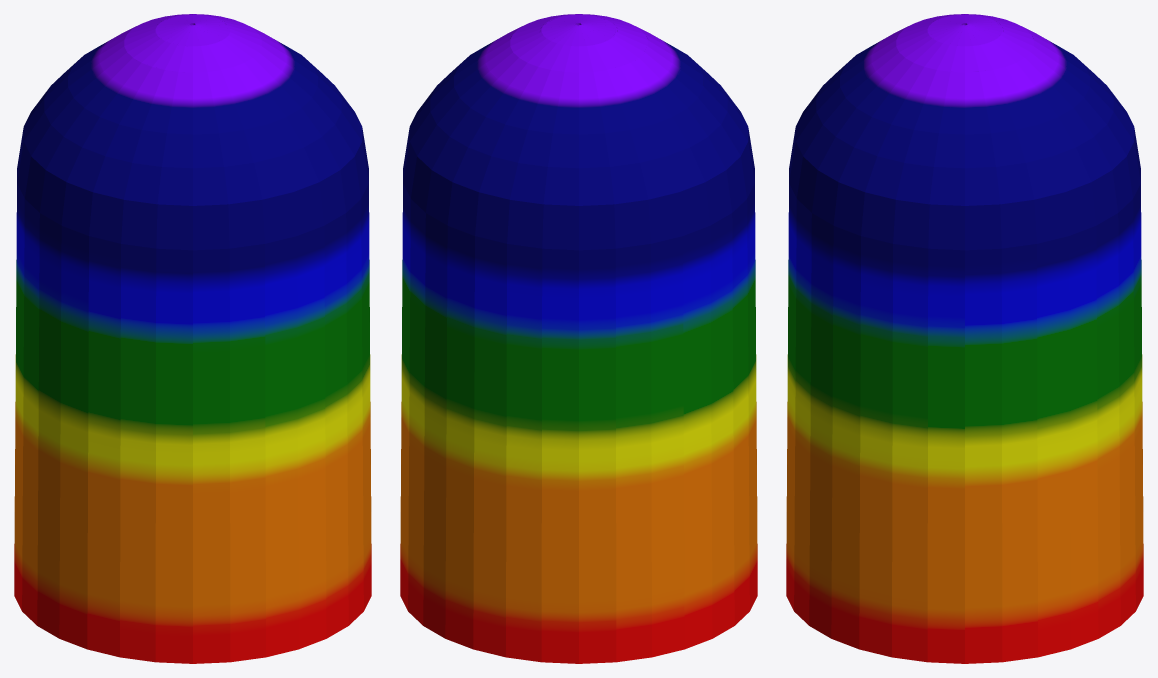
3 renders of one model, left to right at view 1: azimuth 30°, elevation 25°; view 2: azimuth 150°, elevation 25°; view 3: azimuth 270°, elevation 25°, orthographic.
Parts seen in each view (by area): view 1: algeomath; view 2: algeomath; view 3: algeomath.
Boxes of the visible parts, x1,y1,x2,y2 form: algeomath: (14,14,371,663); algeomath: (400,14,757,663); algeomath: (786,14,1143,663).
Size of the model in its own units: 4.1 by 7.09 by 4.07.
1 material, 1 textured.
